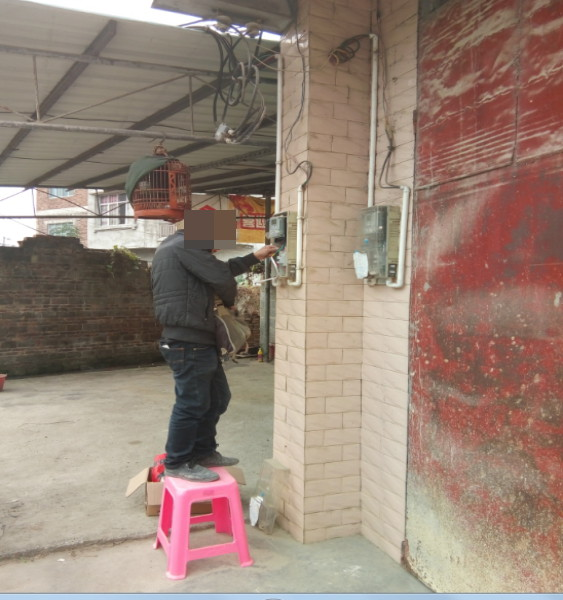downcloth: (161, 347, 232, 456)
hand: (253, 243, 281, 261)
noear: (203, 222, 220, 247)
person: (151, 208, 280, 470)
unhalt: (187, 212, 235, 254)
upcloth: (151, 234, 245, 349)
